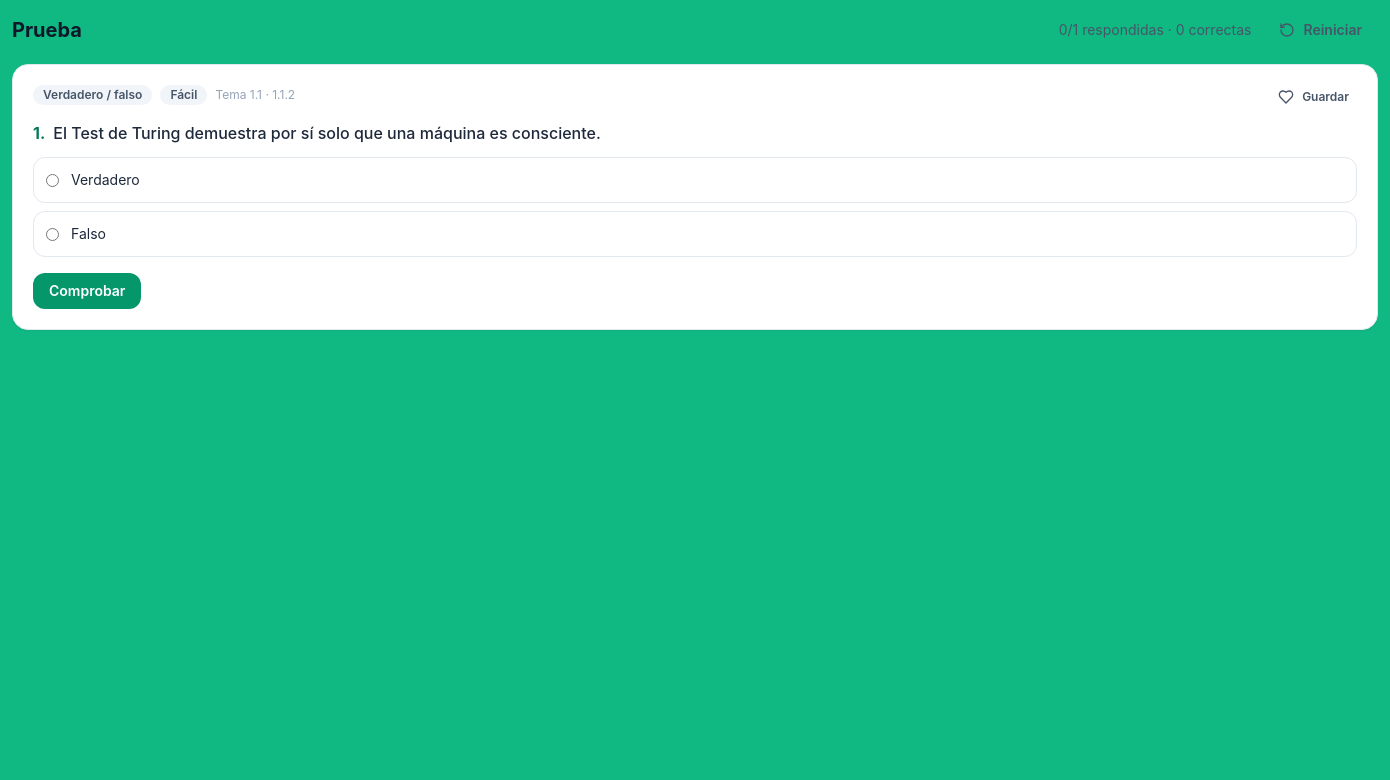
Test: QuizSet › permite reintentar y limpia la corrección
What coordinates should you click on to do the following:
click the radio button labelled "Verdadero"
I would click on:
 (52, 180)
Its box is [46,174,59,186].
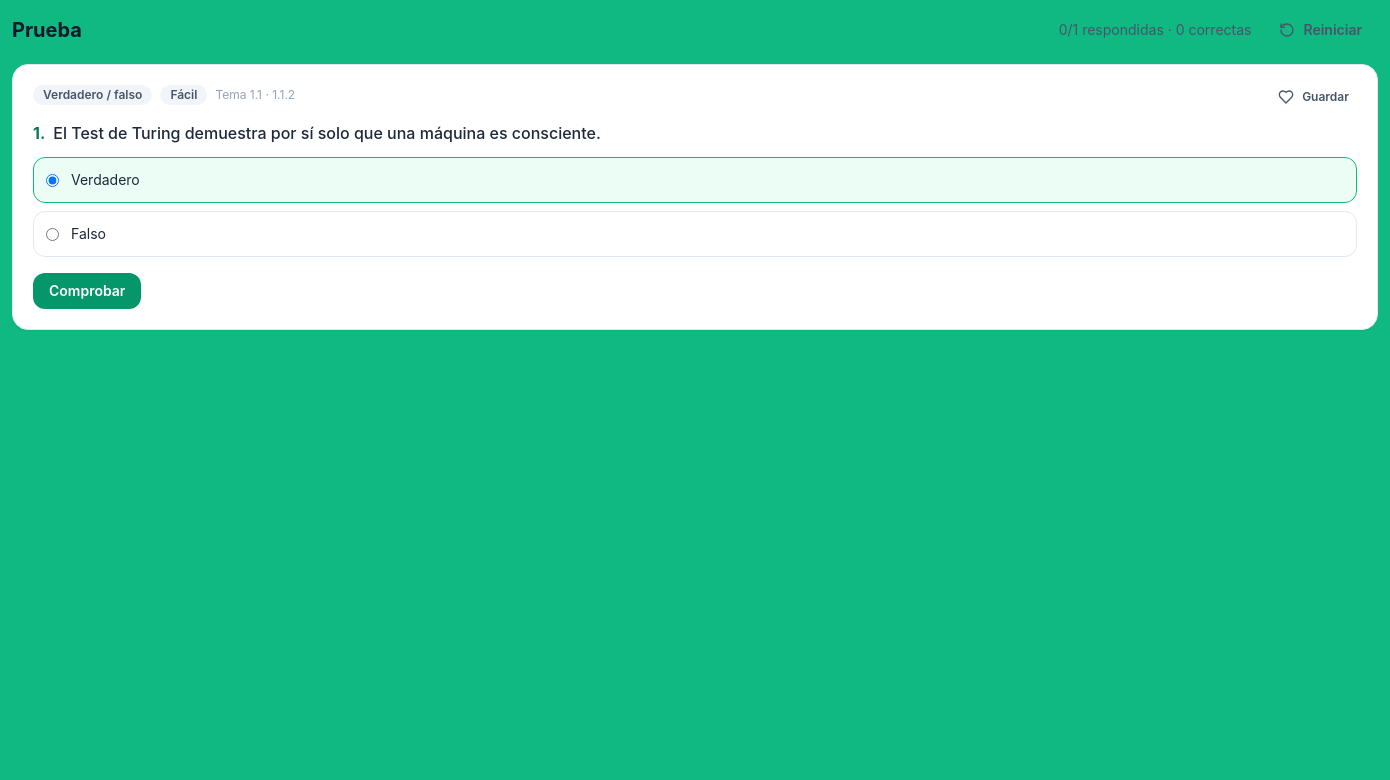
What coordinates should you click on to do the following:
click the button "Comprobar"
I would click on:
 (87, 291)
Its box is [33,273,141,309].
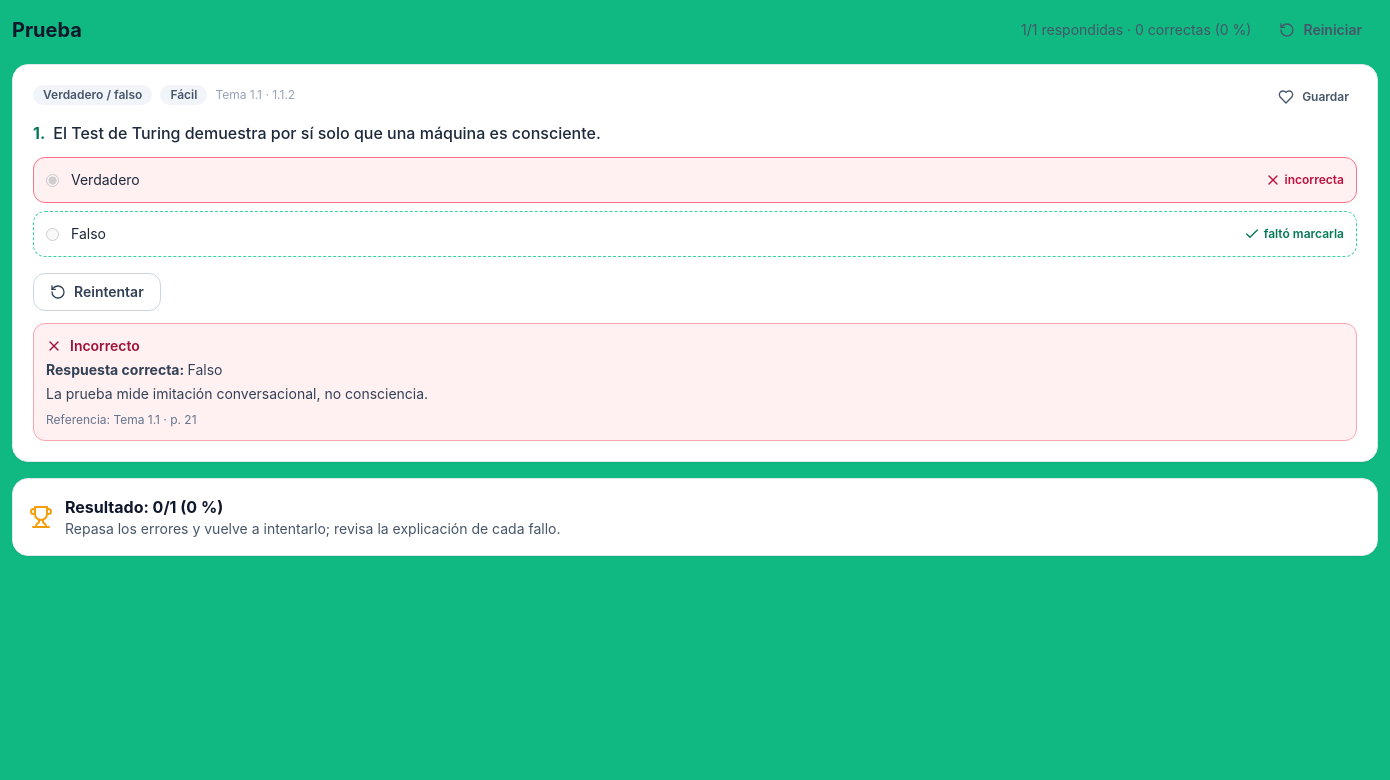
What coordinates should you click on to do the following:
click the button "Reintentar"
I would click on:
 (97, 292)
Its box is [33,273,161,311].
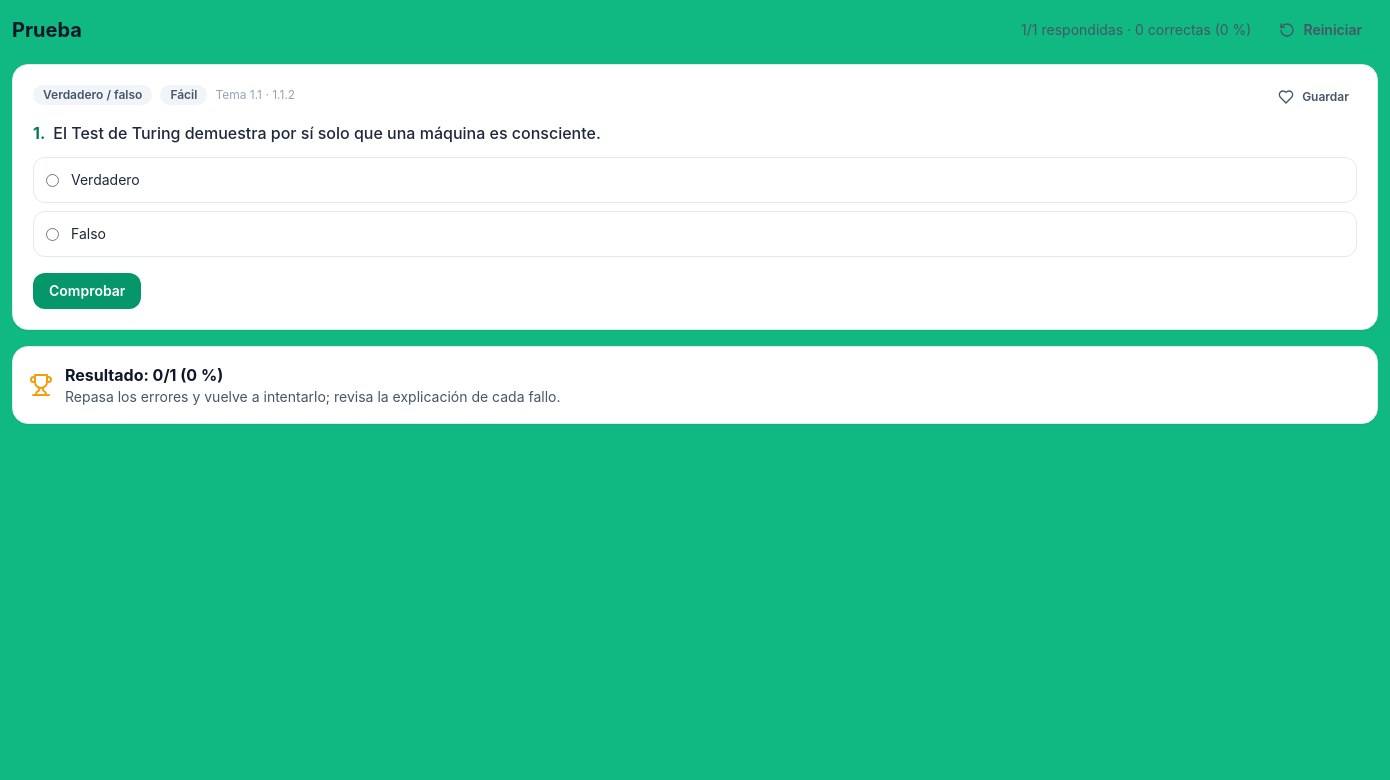
Now the text "Incorrecto" is gone
